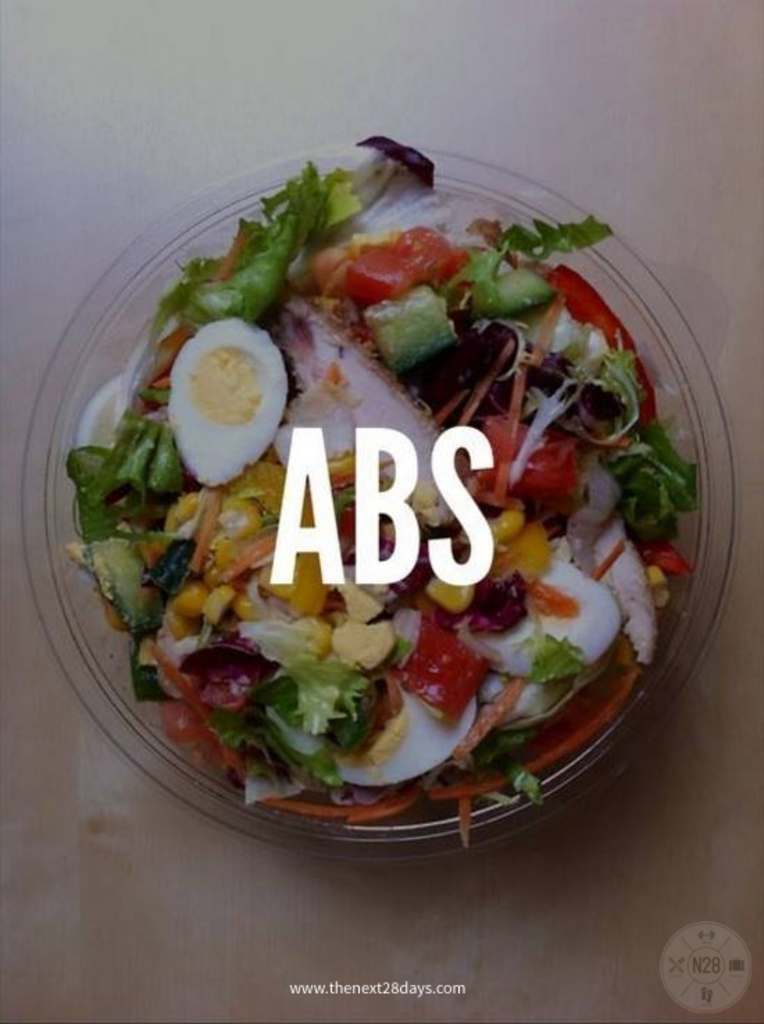salad: (79, 154, 697, 852)
